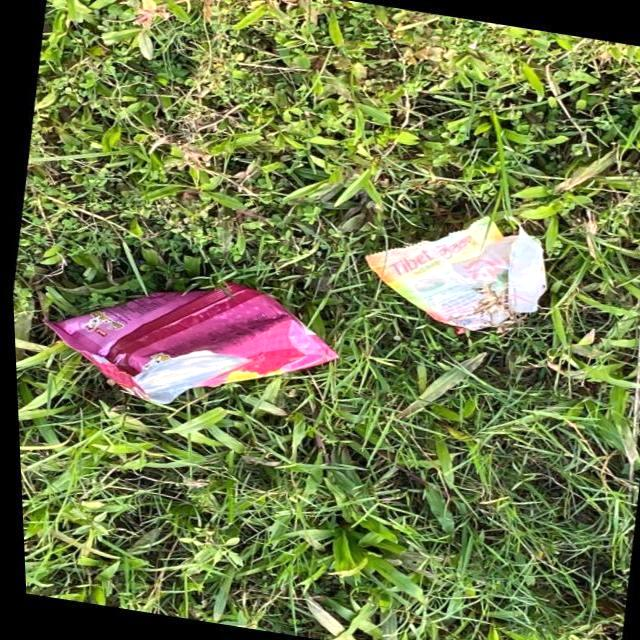packet: (60, 265, 328, 419), (352, 200, 568, 340)
